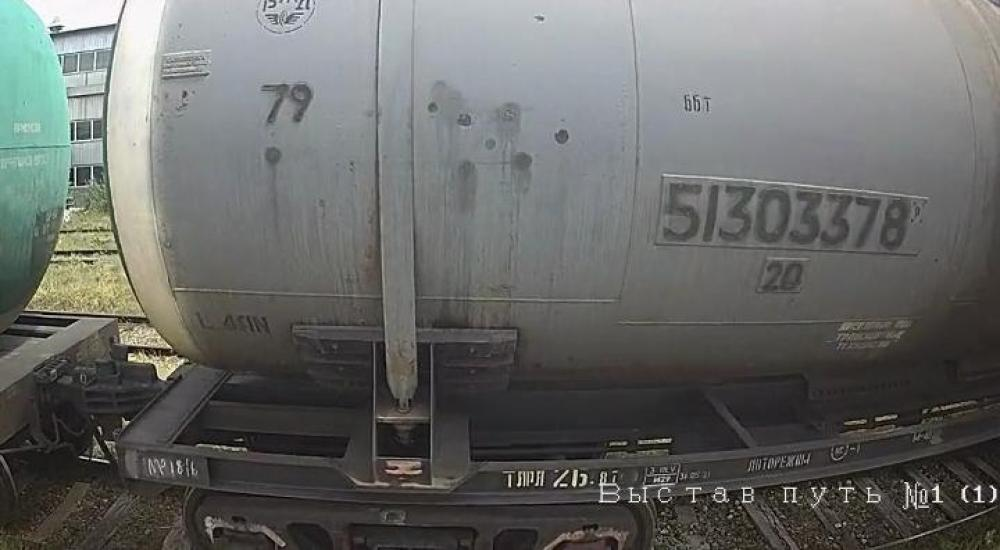Wagon-number: (657, 174, 912, 255)
